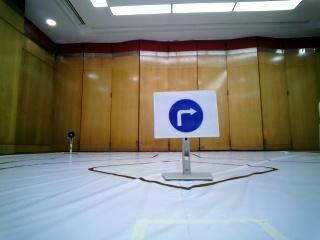right: (157, 95, 214, 135)
